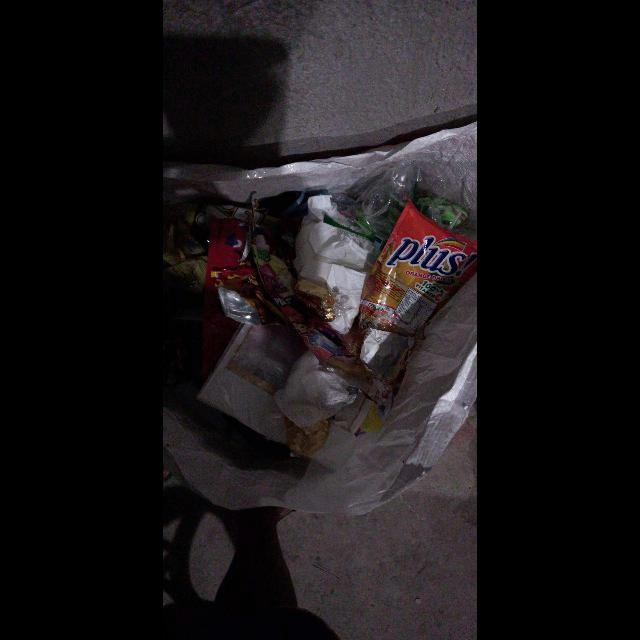food_wrapper: (358, 199, 477, 337)
paper: (274, 351, 357, 428)
